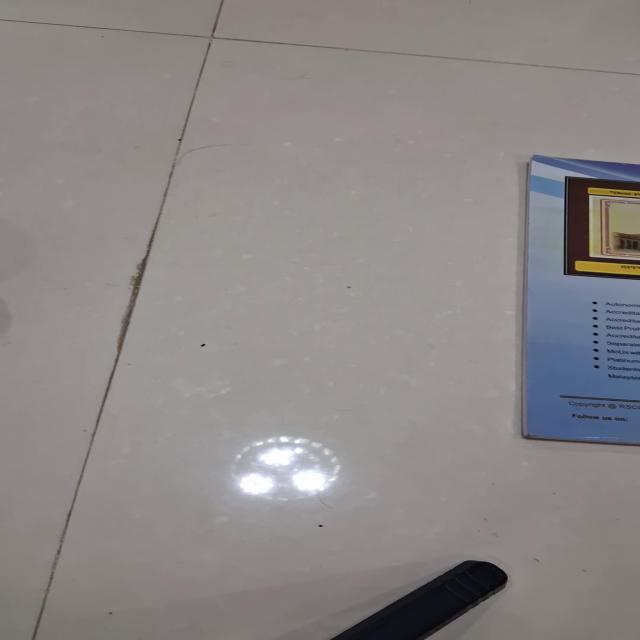paper: (520, 154, 639, 445)
